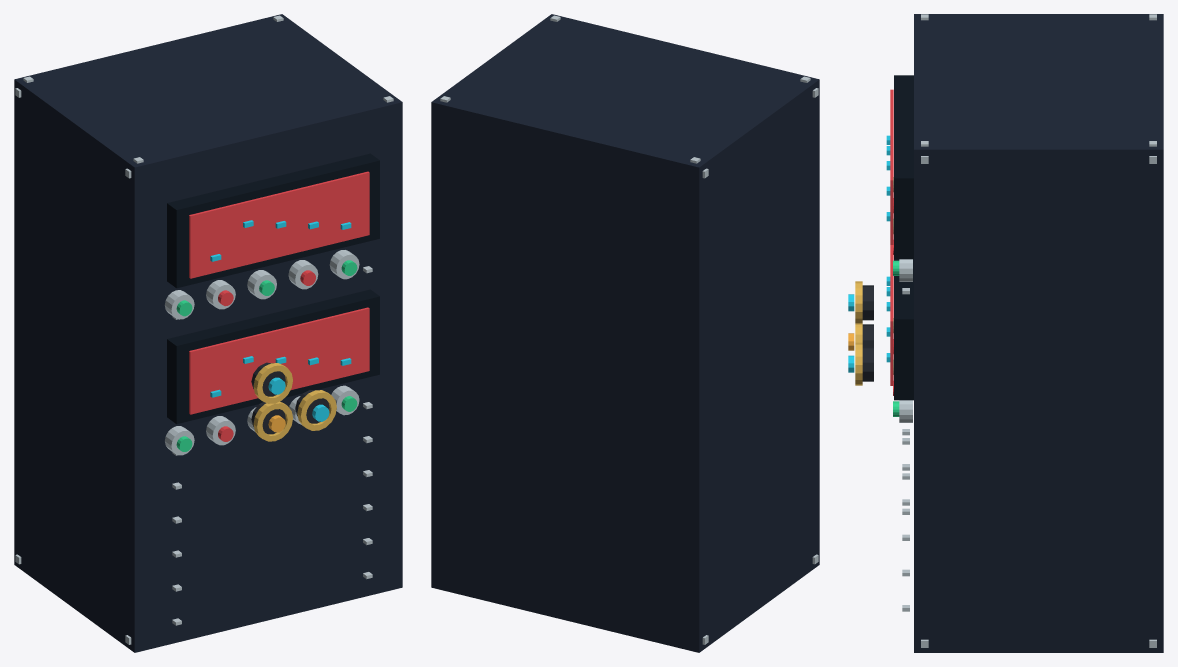
File: 65_L82_RFDesenseFaultEmulator.fbx
3 views of the same model, side by side, from view 1: azimuth 30°, elevation 25°; view 2: azimuth 150°, elevation 25°; view 3: azimuth 270°, elevation 25° (orthographic). The views are drawn at different scales.
Parts seen in each view (by area): view 1: RFDesenseFaultEmulator; view 2: RFDesenseFaultEmulator; view 3: RFDesenseFaultEmulator.
Boxes of the visible parts, x1,y1,x2,y2 form: RFDesenseFaultEmulator: [14, 14, 402, 652]; RFDesenseFaultEmulator: [431, 14, 819, 652]; RFDesenseFaultEmulator: [848, 14, 1163, 652].
Bounding box in the file's own units: 106 × 182 × 102.
